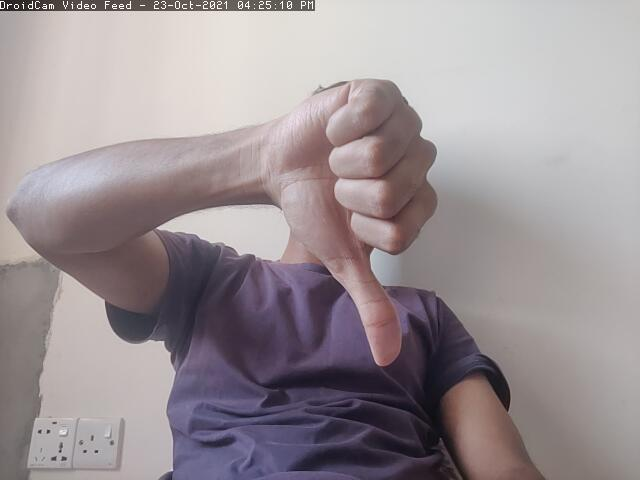ThumbsDown: (283, 79, 441, 367)
